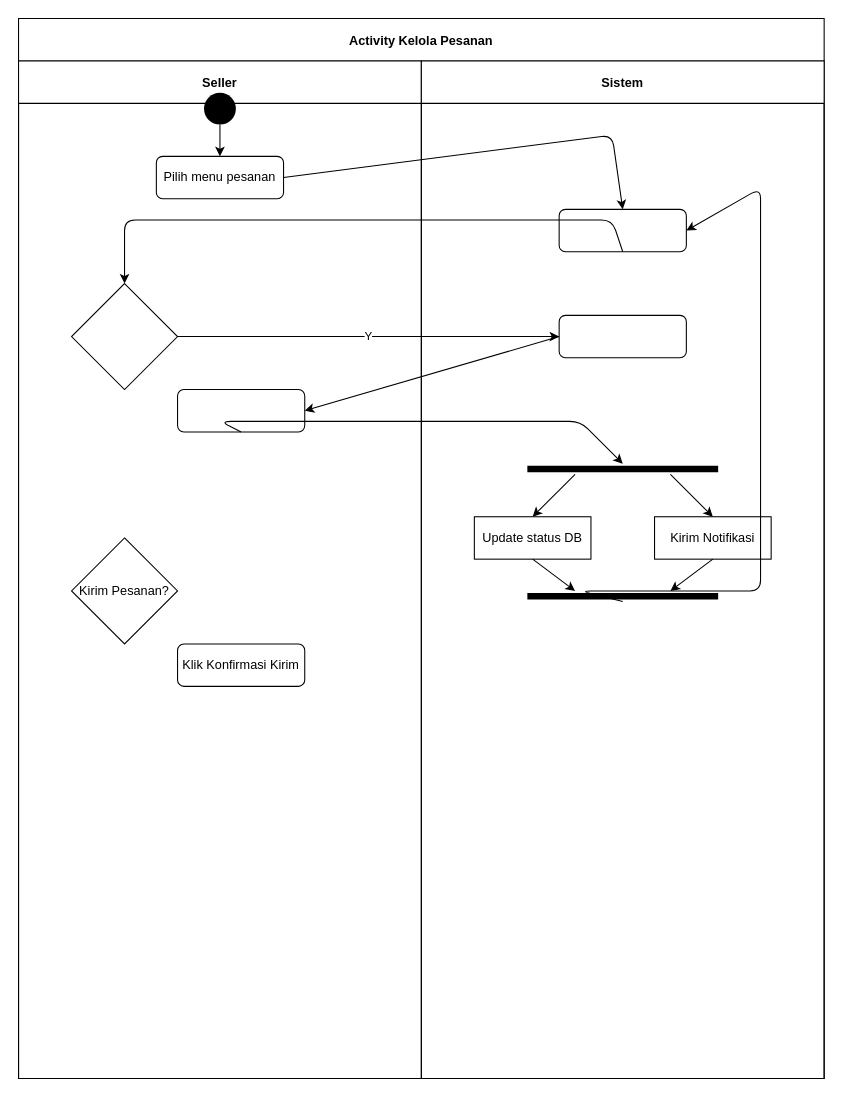
Image size: 843x1097. Some labels were removed from this diagram. Here are the shapes that lost their labels. From the top down, the centre of each, then its label:
At point 622,230: "Tampil daftar pesanan".
At point 124,336: "Terima Pesanan?".
At point 622,336: "Tampil detail pesanan".
At point 240,410: "Klik Konfirmasi".
